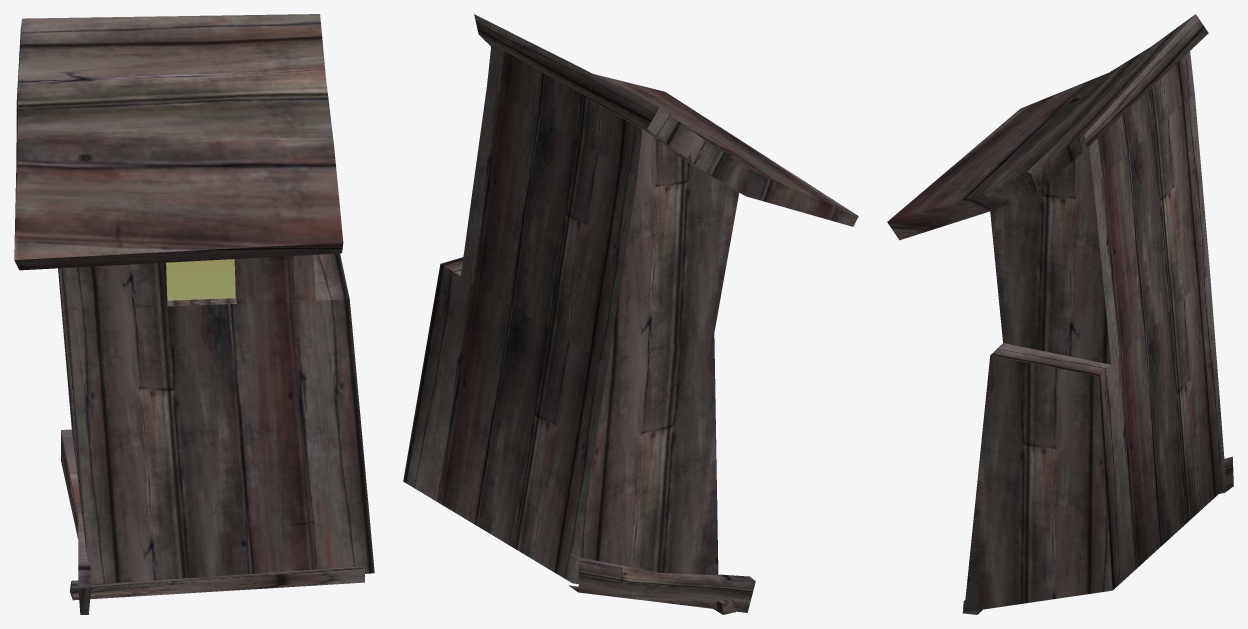
File: pir_m_prp_swm_shack_small.fbx
3 views of the same model, side by side, from view 1: azimuth 30°, elevation 25°; view 2: azimuth 150°, elevation 25°; view 3: azimuth 270°, elevation 25° (orthographic). The views are drawn at different scales.
Visible parts, largest first — view 1: polySurface498, roof1, polySurface499, polySurface547, plank10; view 2: polySurface498, roof1, plank10; view 3: polySurface498, roof1.
Boxes of the visible parts, x1,y1,x2,y2 form: polySurface498: [58, 253, 374, 584]; roof1: [14, 14, 343, 270]; polySurface499: [70, 566, 364, 600]; polySurface547: [166, 259, 235, 300]; plank10: [61, 429, 90, 614]; polySurface498: [403, 43, 738, 583]; roof1: [474, 14, 858, 226]; plank10: [568, 553, 755, 612]; polySurface498: [964, 51, 1226, 612]; roof1: [887, 14, 1208, 240].
Bounding box in the file's own units: 2175 × 2852 × 1755.
1 material, 1 textured.
